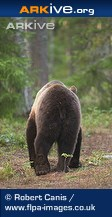bear: (25, 78, 83, 174)
